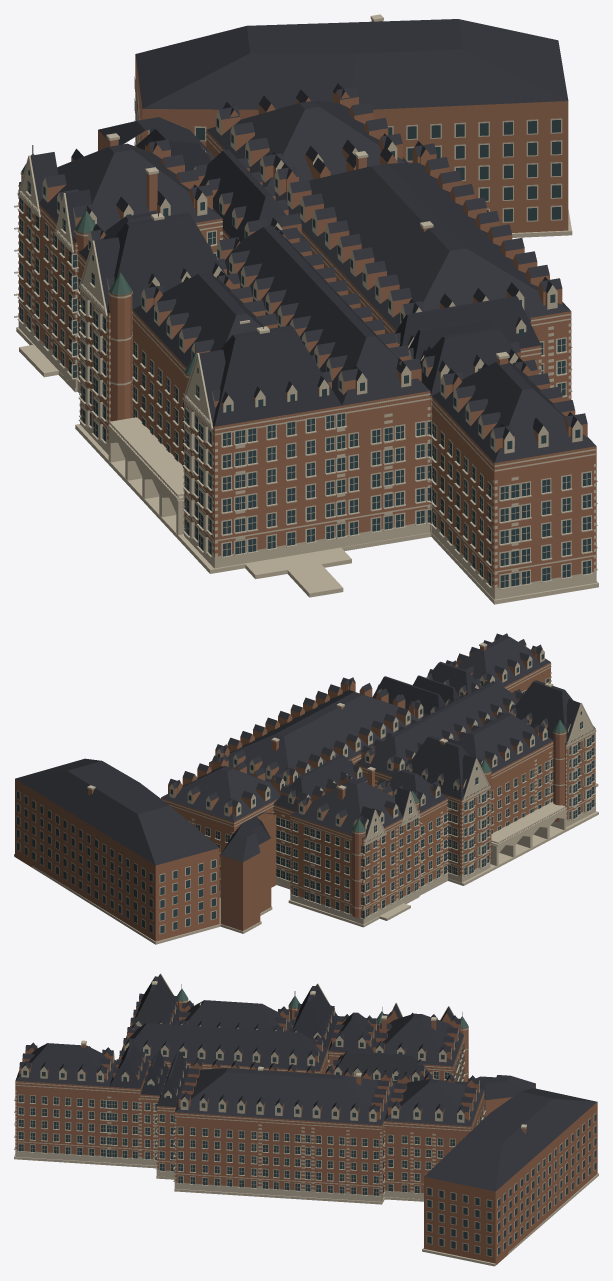
The model's file is fairmont-empress-near.glb.
3 views of the same model, one above another, from view 1: azimuth 30°, elevation 25°; view 2: azimuth 150°, elevation 25°; view 3: azimuth 270°, elevation 25° (orthographic). The views are drawn at different scales.
Parts seen in each view (by area): view 1: fairmont-empress-0-slate, fairmont-empress-0-brick, fairmont-empress-0-stone, fairmont-empress-0-glass, fairmont-empress-0-glow, fairmont-empress-0-copper; view 2: fairmont-empress-0-slate, fairmont-empress-0-brick, fairmont-empress-0-stone, fairmont-empress-0-glass, fairmont-empress-0-glow; view 3: fairmont-empress-0-slate, fairmont-empress-0-brick, fairmont-empress-0-stone, fairmont-empress-0-glass, fairmont-empress-0-glow.
Part boxes in pixels (x1,y1,x2,y2): fairmont-empress-0-slate: [19, 19, 596, 462]; fairmont-empress-0-brick: [19, 20, 596, 599]; fairmont-empress-0-stone: [14, 14, 598, 604]; fairmont-empress-0-glass: [20, 77, 590, 587]; fairmont-empress-0-glow: [20, 111, 590, 581]; fairmont-empress-0-copper: [21, 153, 196, 375]; fairmont-empress-0-slate: [15, 633, 595, 865]; fairmont-empress-0-brick: [15, 637, 595, 941]; fairmont-empress-0-stone: [14, 642, 598, 944]; fairmont-empress-0-glass: [17, 654, 594, 933]; fairmont-empress-0-glow: [24, 767, 594, 928]; fairmont-empress-0-slate: [15, 974, 597, 1191]; fairmont-empress-0-brick: [15, 995, 597, 1265]; fairmont-empress-0-stone: [14, 973, 598, 1266]; fairmont-empress-0-glass: [18, 1010, 596, 1256]; fairmont-empress-0-glow: [18, 1043, 590, 1253].
Size of the model in its own units: 113 by 35.4 by 154.
